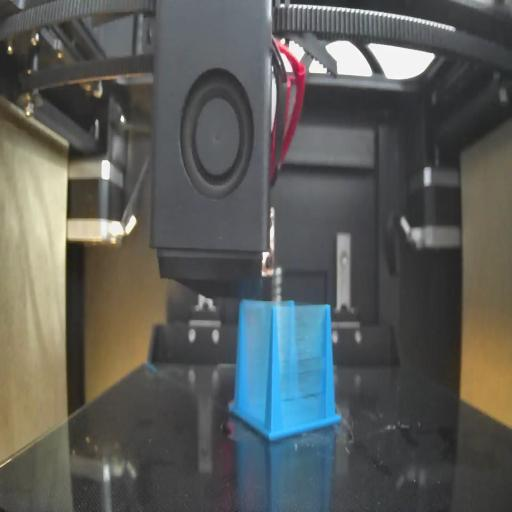stringing: (276, 302, 330, 432), (242, 301, 270, 430)
